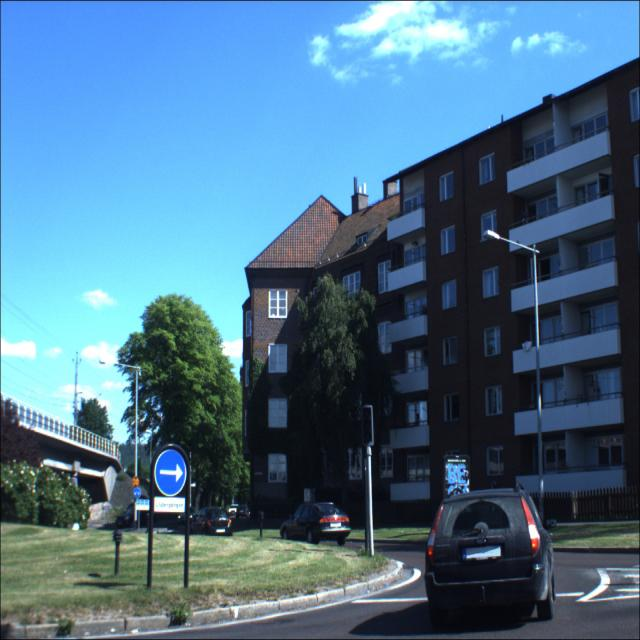Turn Right: (149, 447, 191, 495)
